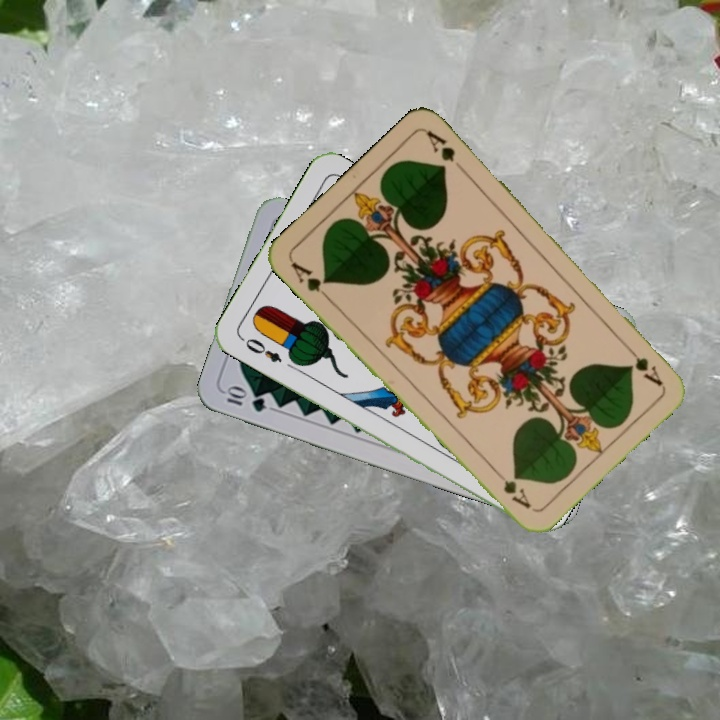EO: (237, 333, 285, 365)
G10: (221, 383, 269, 415)
GA: (287, 257, 333, 304), (621, 340, 665, 389)
